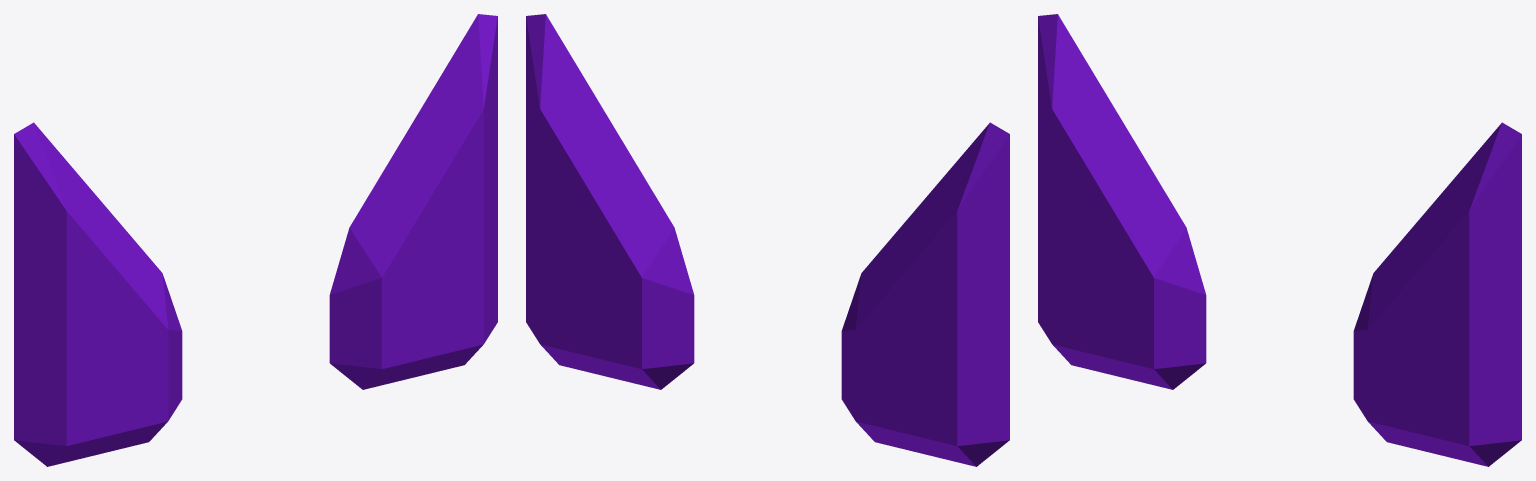
The model's file is blitzeyes.fbx.
The picture shows the model from 3 angles, left to right: view 1: azimuth 30°, elevation 25°; view 2: azimuth 150°, elevation 25°; view 3: azimuth 330°, elevation 25°; orthographic projection.
Visible parts, largest first — view 1: Cube.003; view 2: Cube.003; view 3: Cube.003.
Part boxes in pixels (box(x1,y1,x2,y2)): Cube.003: box(14, 14, 497, 466); Cube.003: box(526, 14, 1009, 466); Cube.003: box(1038, 14, 1521, 466).
Size of the model in its own units: 6.61 by 4.54 by 0.9088.
